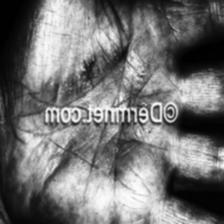Non-Cancerous Skin Condition: (0, 126, 117, 220), (42, 15, 163, 94)
